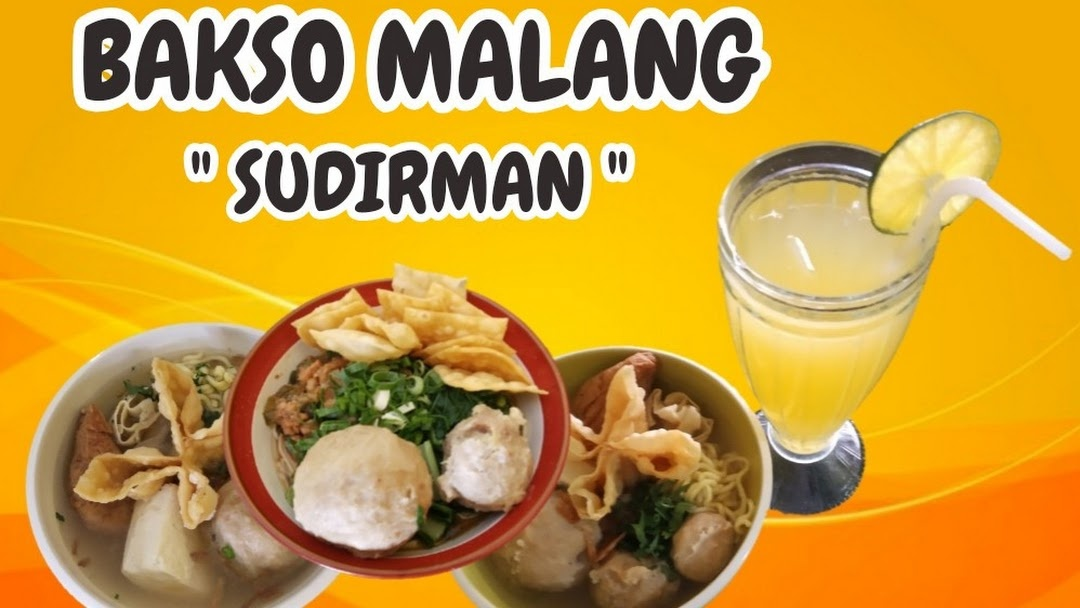bakso_malang: (261, 264, 549, 560)
